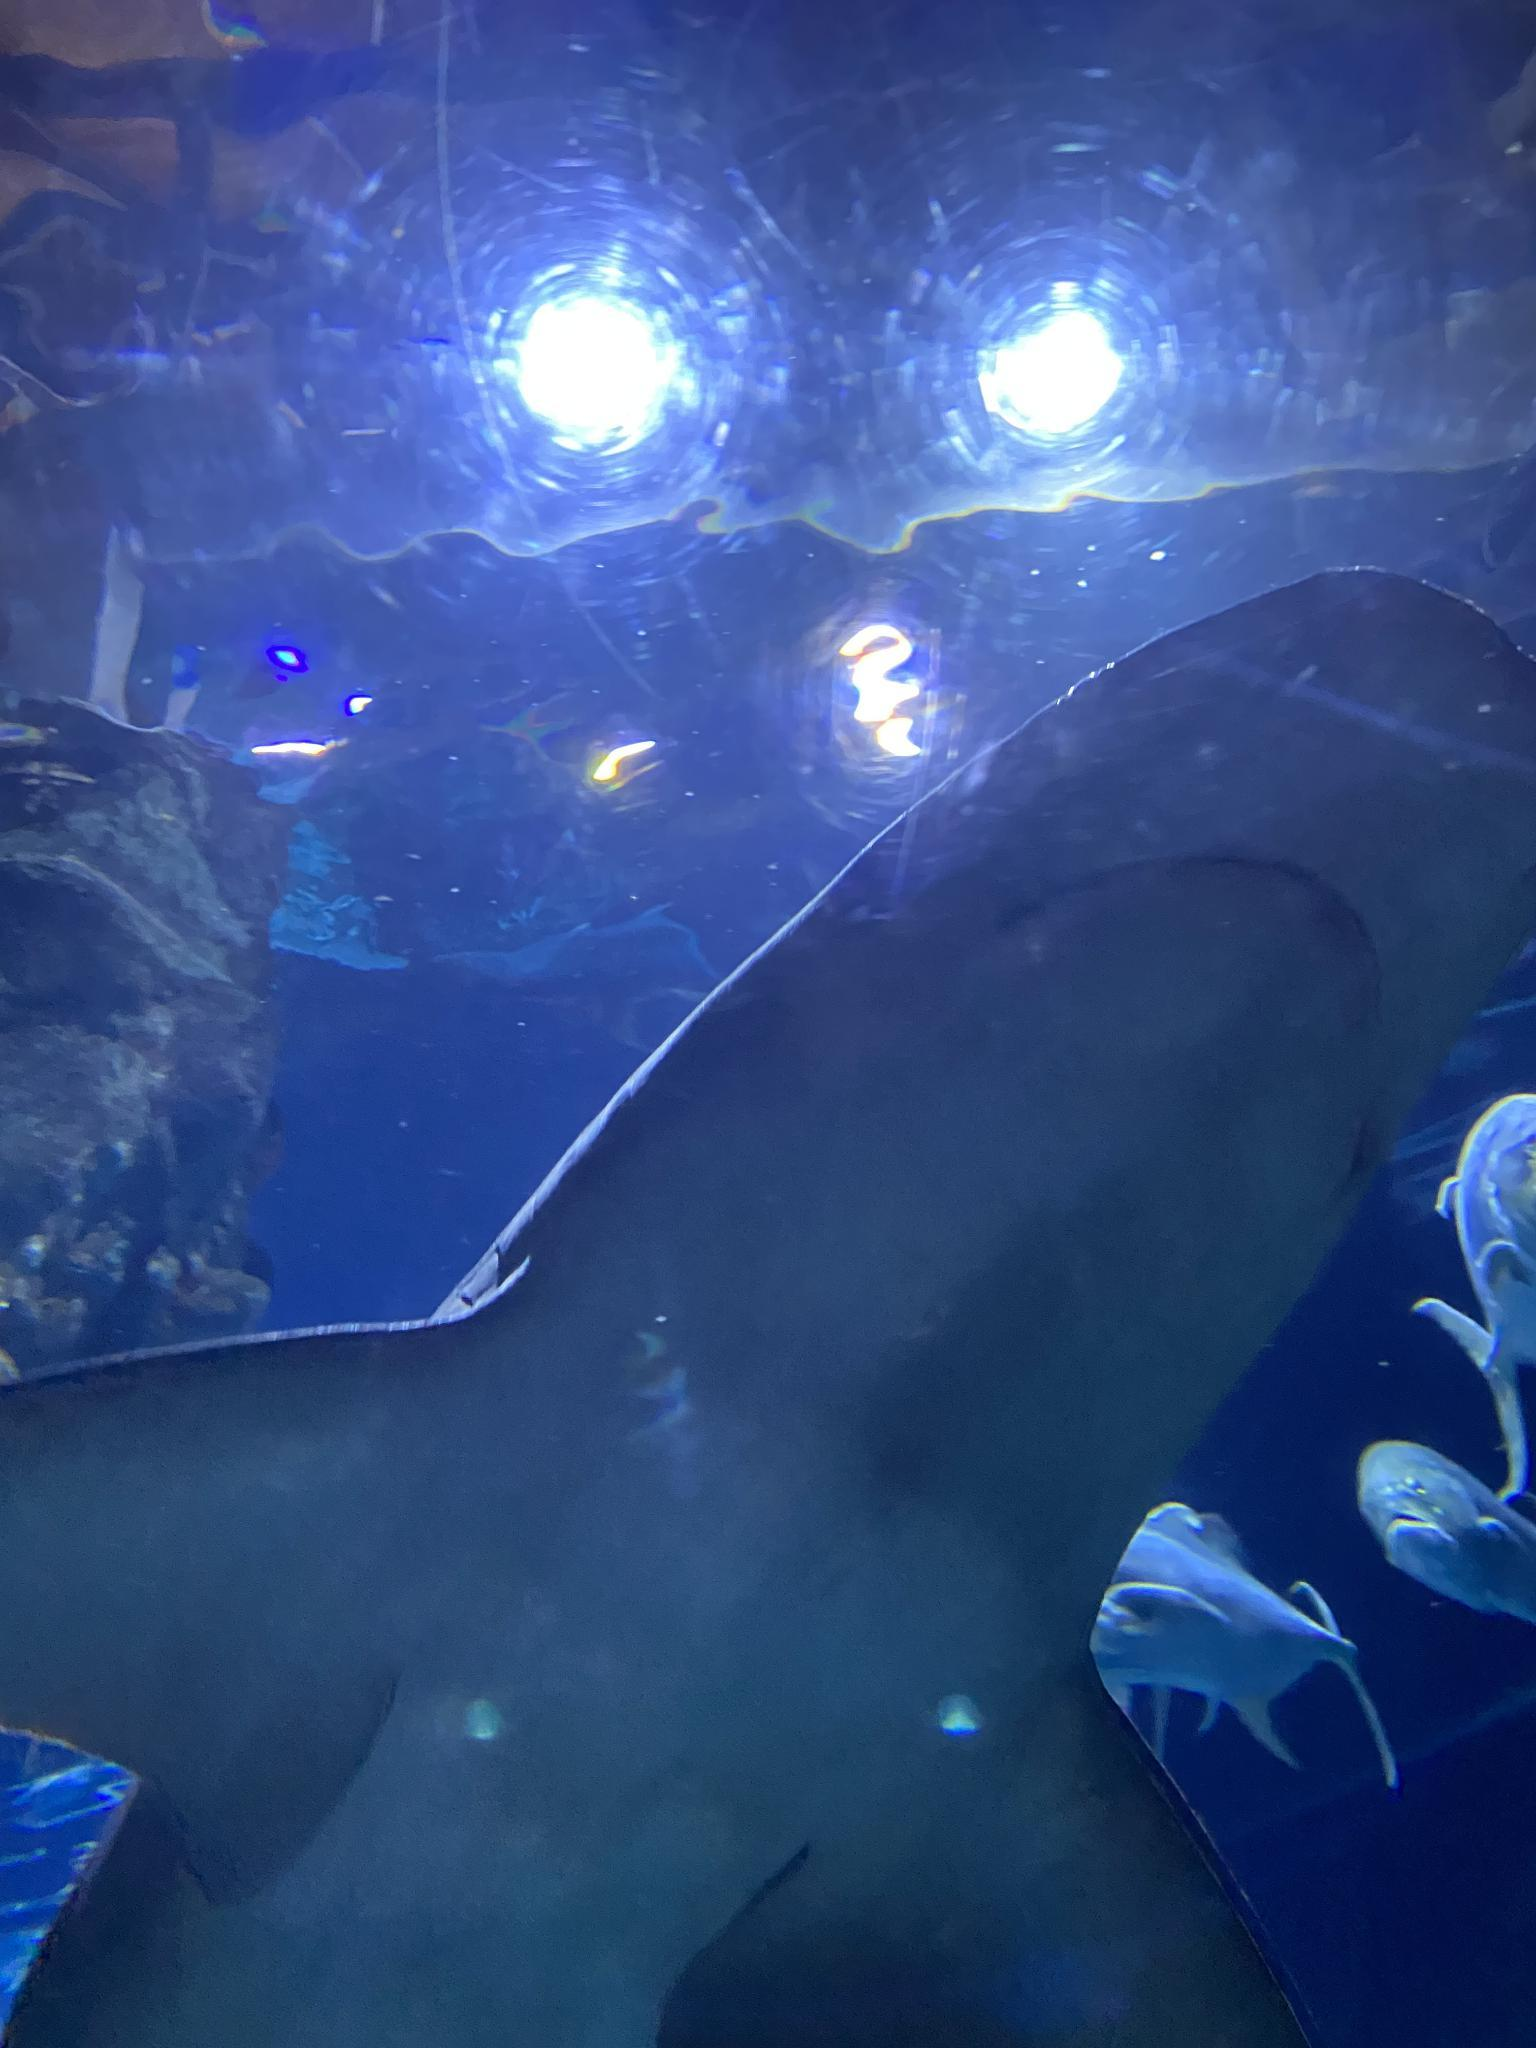fish: (1066, 1500, 1400, 1792), (1418, 1092, 1536, 1509), (1362, 1438, 1536, 1624)
shark: (0, 560, 1536, 2046)
